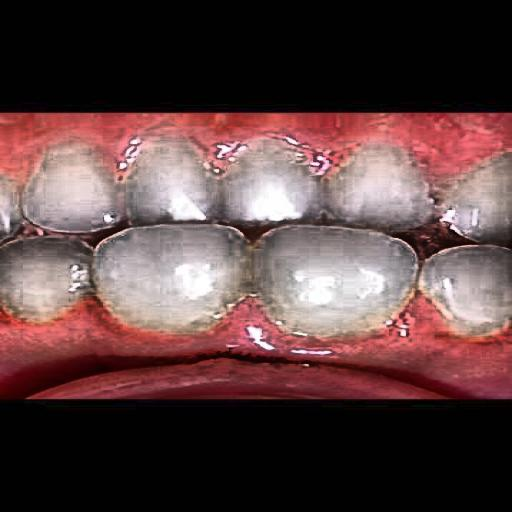Healthy: (0, 155, 512, 334)
